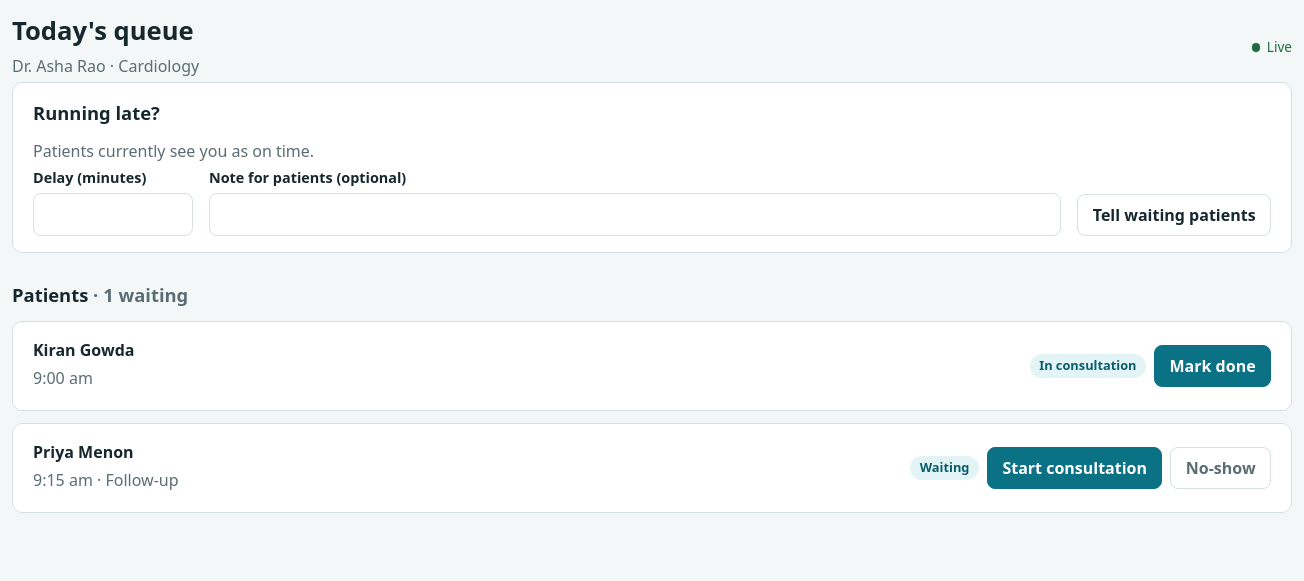
DoctorDashboard › broadcasts a delay with its note
Check: the text "Priya Menon" is shown, box top-left (33, 441), bottom-right (134, 463)
Type "25" into the number field labelled "Delay (minutes)" at [113, 214], box top-left (33, 193), bottom-right (193, 236)
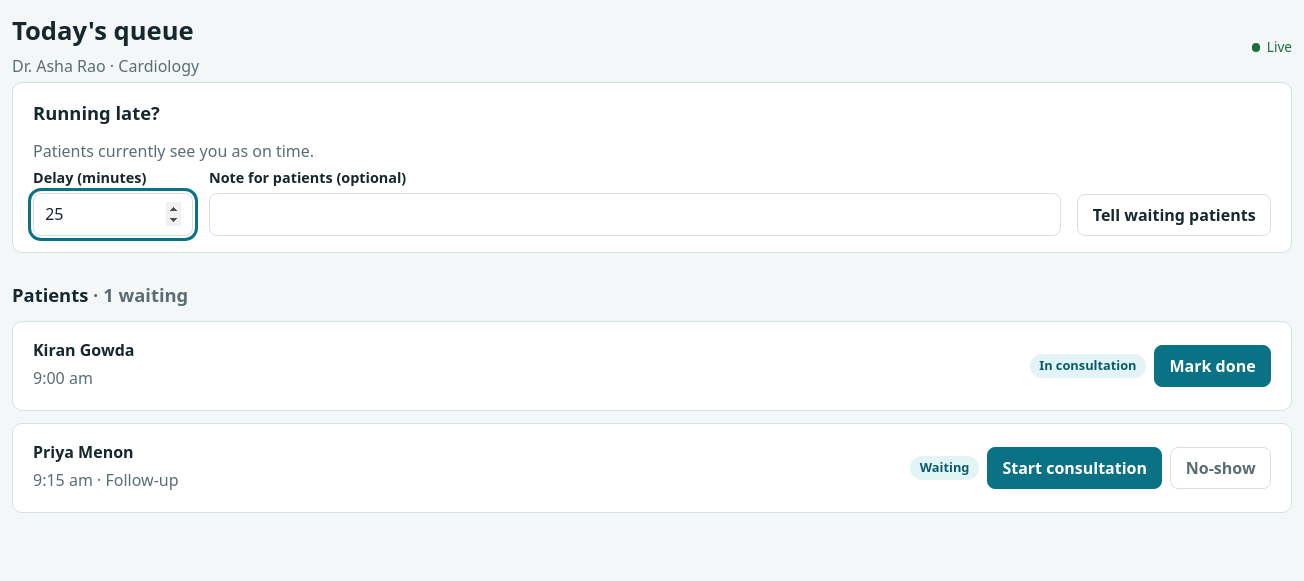
Type "Emergency case" into the field labelled "Note for patients (optional)" at [635, 214], box top-left (209, 193), bottom-right (1061, 236)
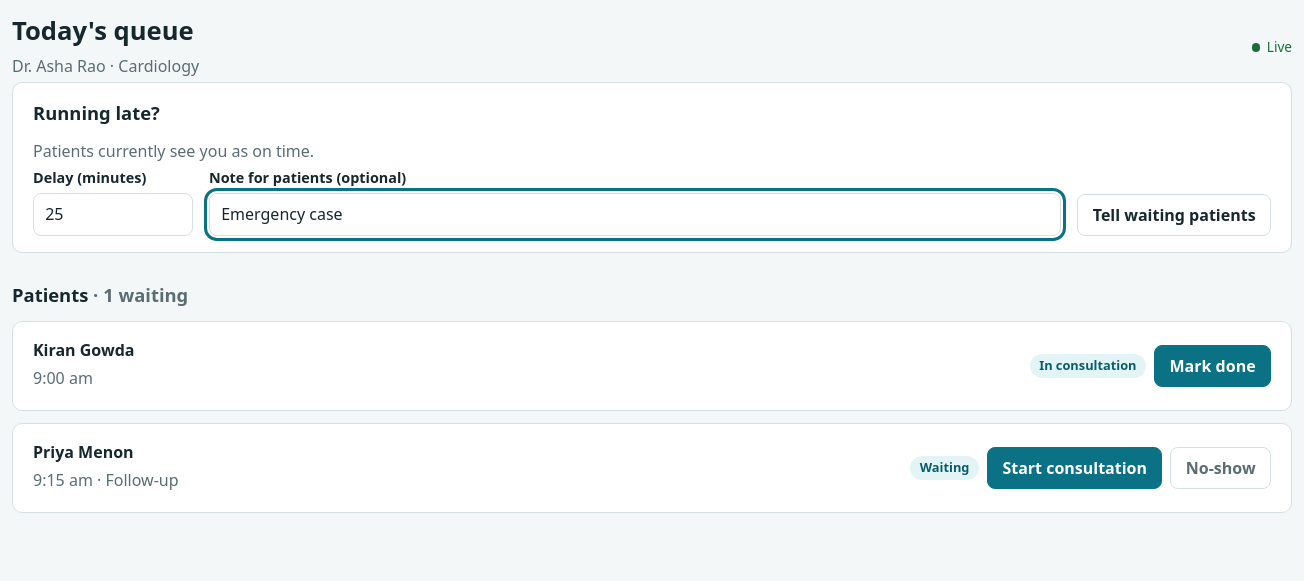
Click the button "Tell waiting patients" at [1174, 215], box top-left (1077, 194), bottom-right (1271, 236)
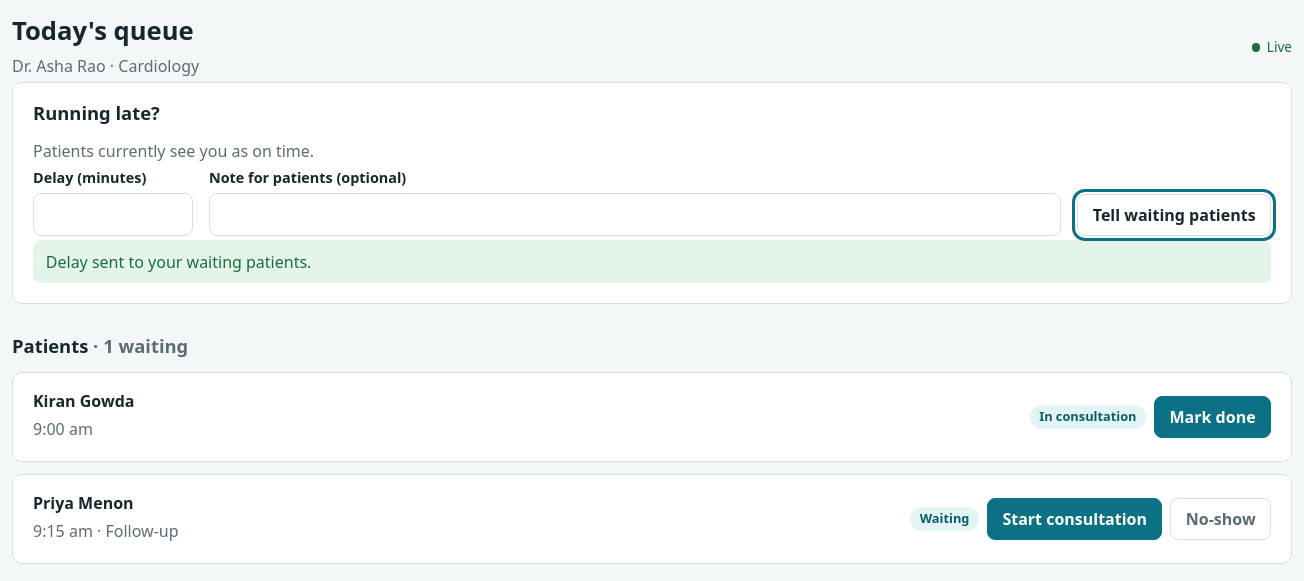
Check: the message shows "Delay sent", box top-left (46, 251), bottom-right (311, 273)
